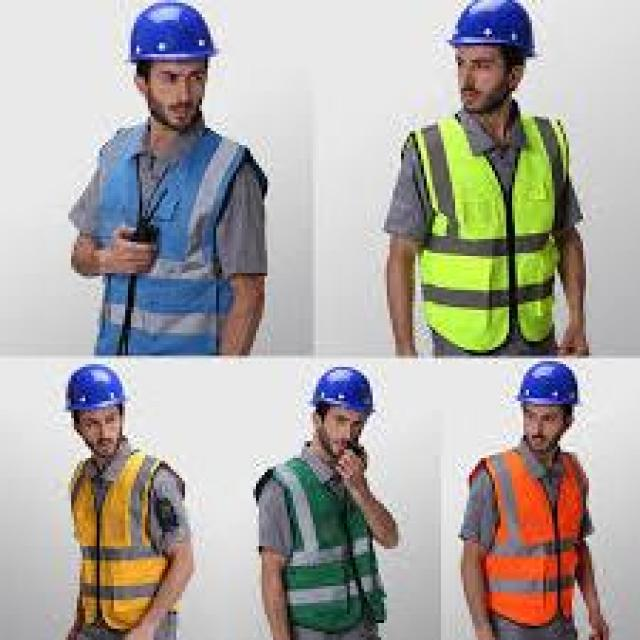Reflective-Jacket: (398, 105, 580, 356), (51, 450, 188, 637), (472, 446, 589, 632)
Safety-Helmet: (111, 0, 233, 74), (438, 0, 552, 65), (302, 361, 381, 418), (57, 361, 134, 418), (509, 356, 586, 410)
